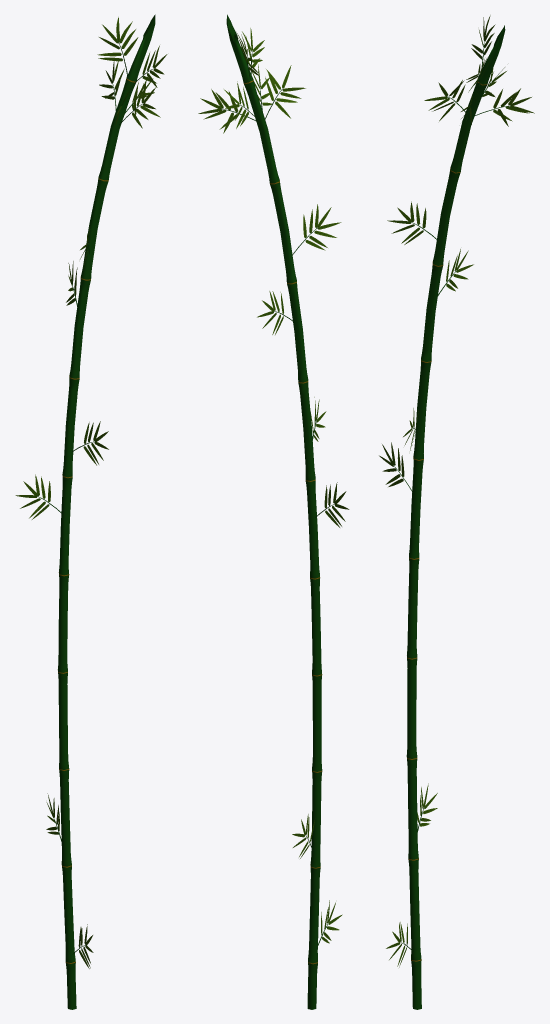
Rendered from BambooCurvedEv1.fbx.
The picture shows the model from 3 angles, left to right: view 1: azimuth 30°, elevation 25°; view 2: azimuth 150°, elevation 25°; view 3: azimuth 330°, elevation 25°; orthographic projection. The views are drawn at different scales.
Parts seen in each view (by area): view 1: BambooE.001; view 2: BambooE.001; view 3: BambooE.001.
Boxes of the visible parts, <box> form: BambooE.001: <box>15,14,167,1009</box>; BambooE.001: <box>198,14,349,1009</box>; BambooE.001: <box>379,15,534,1009</box>.
Bounding box in the file's own units: 158 × 1002 × 105.
